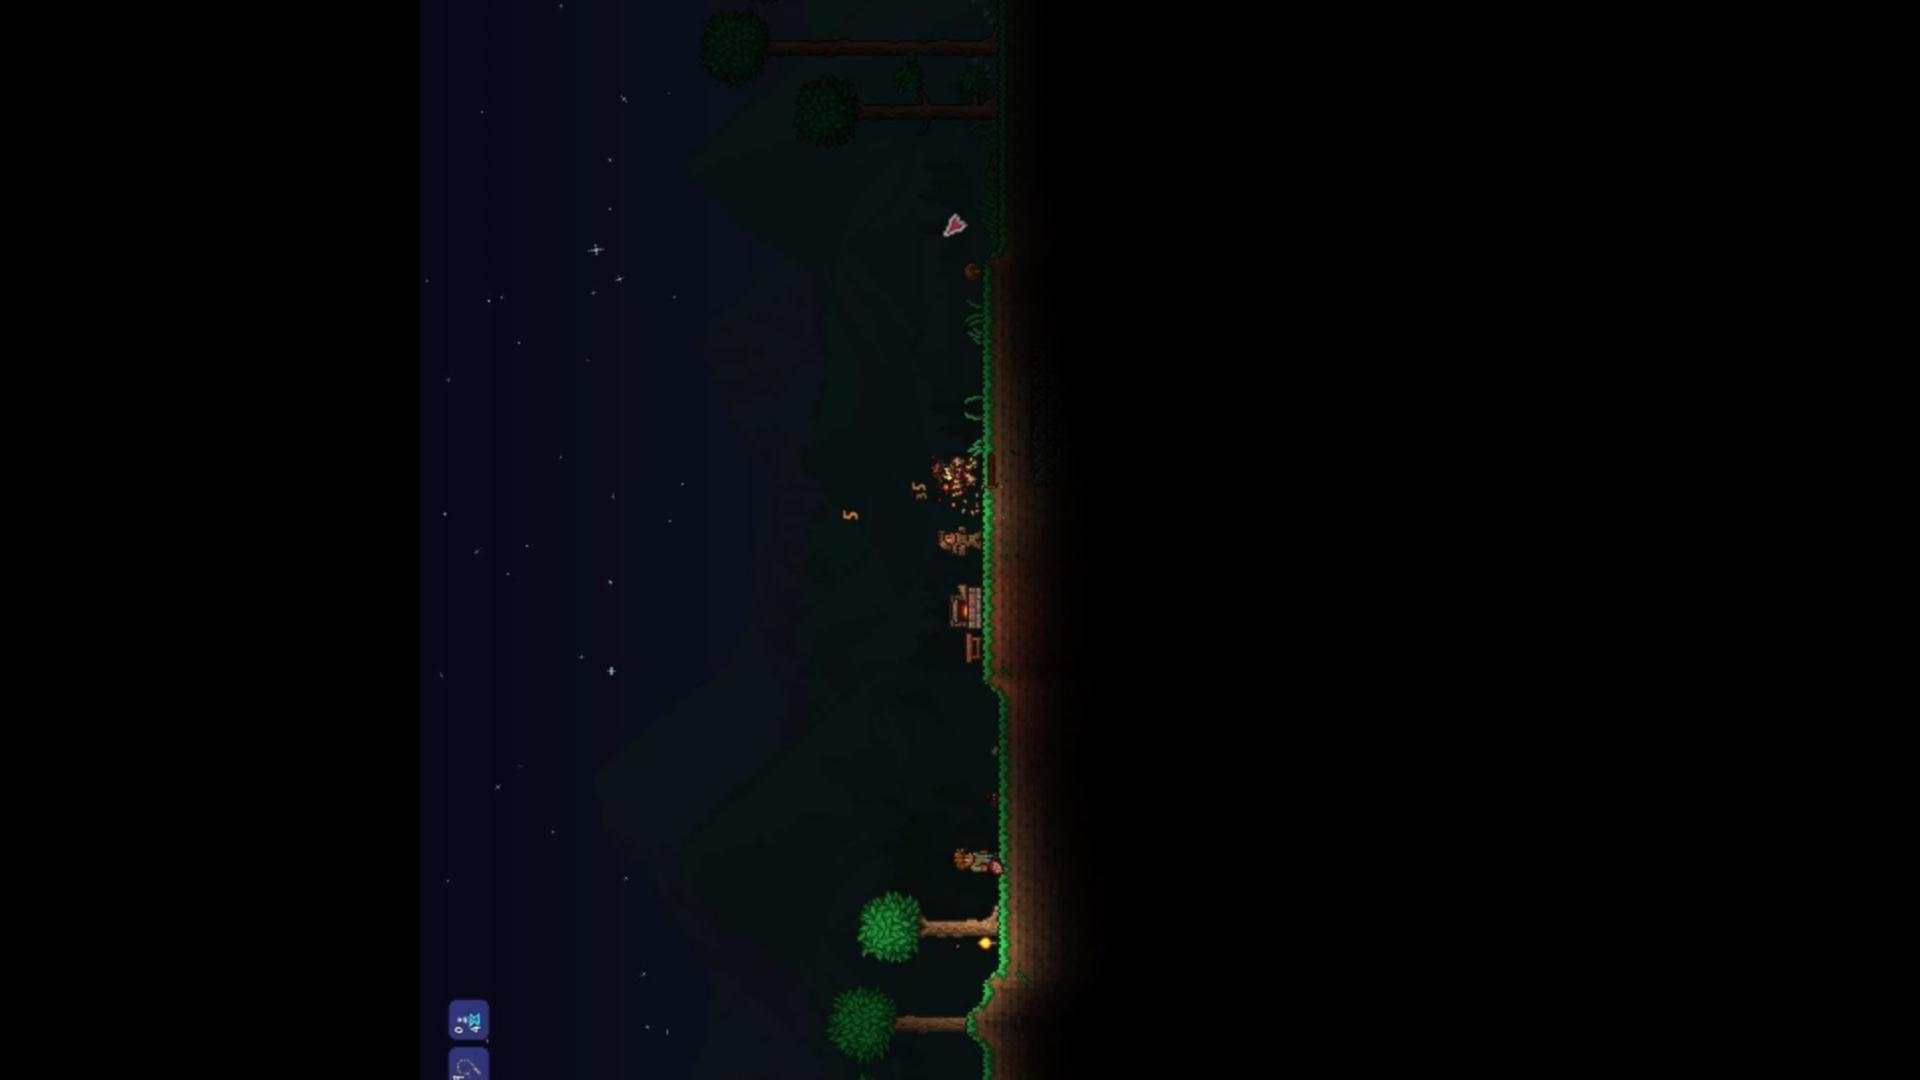furnace: (942, 580, 982, 629)
recallP: (454, 1010, 481, 1027)
